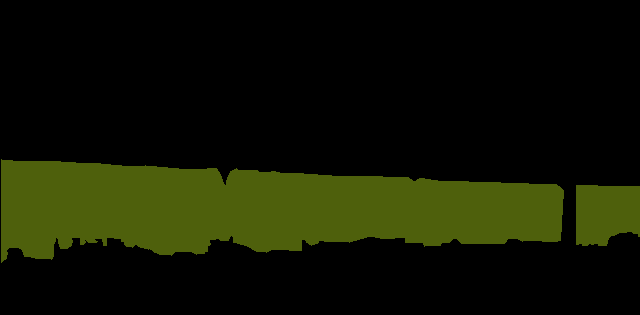Train: (1, 159, 640, 262)
